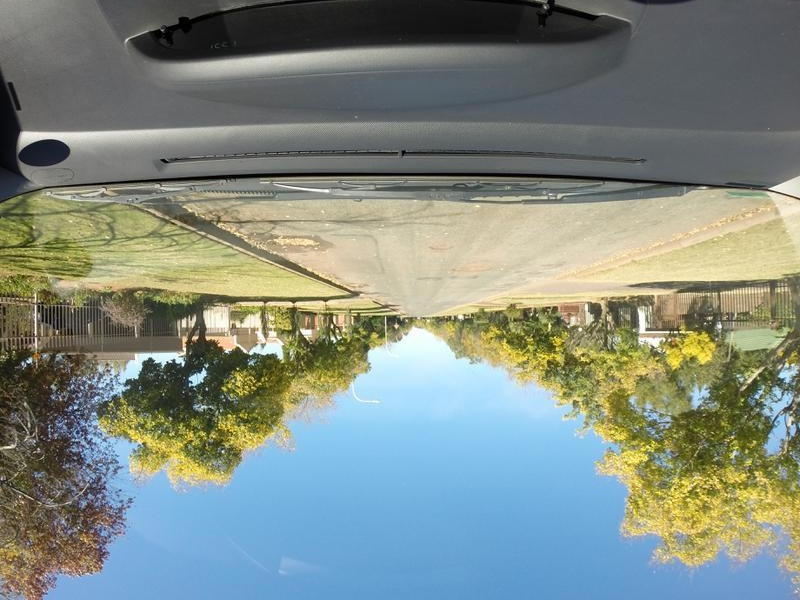pothole: (452, 261, 499, 278), (280, 232, 319, 251), (432, 244, 454, 252)
